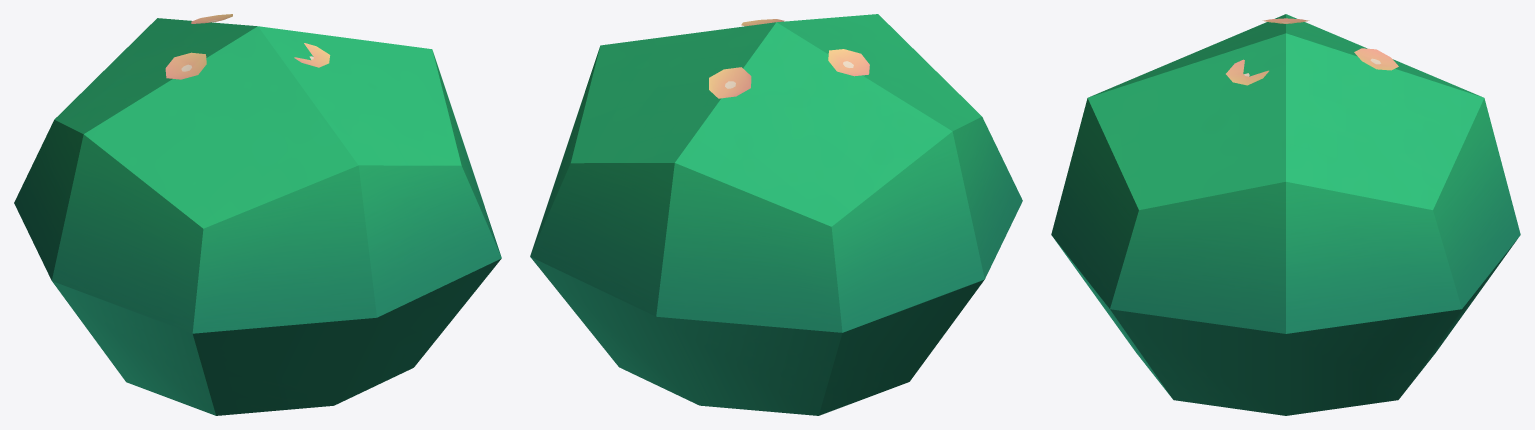
The model's file is Куст большой.5.fbx.
3 views of the same model, side by side, from view 1: azimuth 30°, elevation 25°; view 2: azimuth 150°, elevation 25°; view 3: azimuth 270°, elevation 25° (orthographic). The views are drawn at different scales.
Parts seen in each view (by area): view 1: Куст_большой_5; view 2: Куст_большой_5; view 3: Куст_большой_5.
Part boxes in pixels (x1=…): Куст_большой_5: x1=14, y1=14, x2=501, y2=415; Куст_большой_5: x1=530, y1=14, x2=1022, y2=415; Куст_большой_5: x1=1051, y1=14, x2=1520, y2=415.
Bounding box in the file's own units: 98.9 × 74.22 × 98.9.
